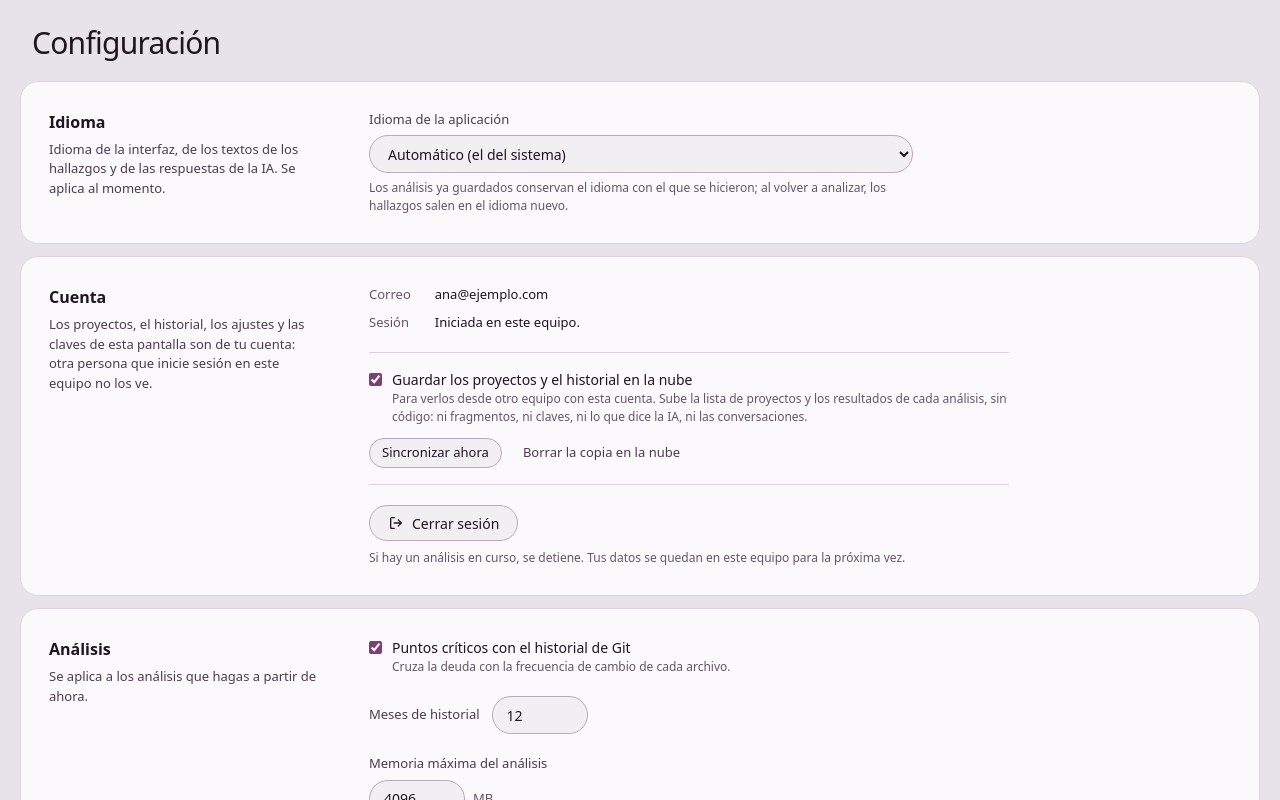
Test: Configuración › si no se puede guardar, muestra el error y conserva el borrador
This screenshot has width=1280, height=800.
Click the checkbox labelled "Puntos críticos con el historial de Git".
click(376, 648)  # box [369, 641, 382, 654]
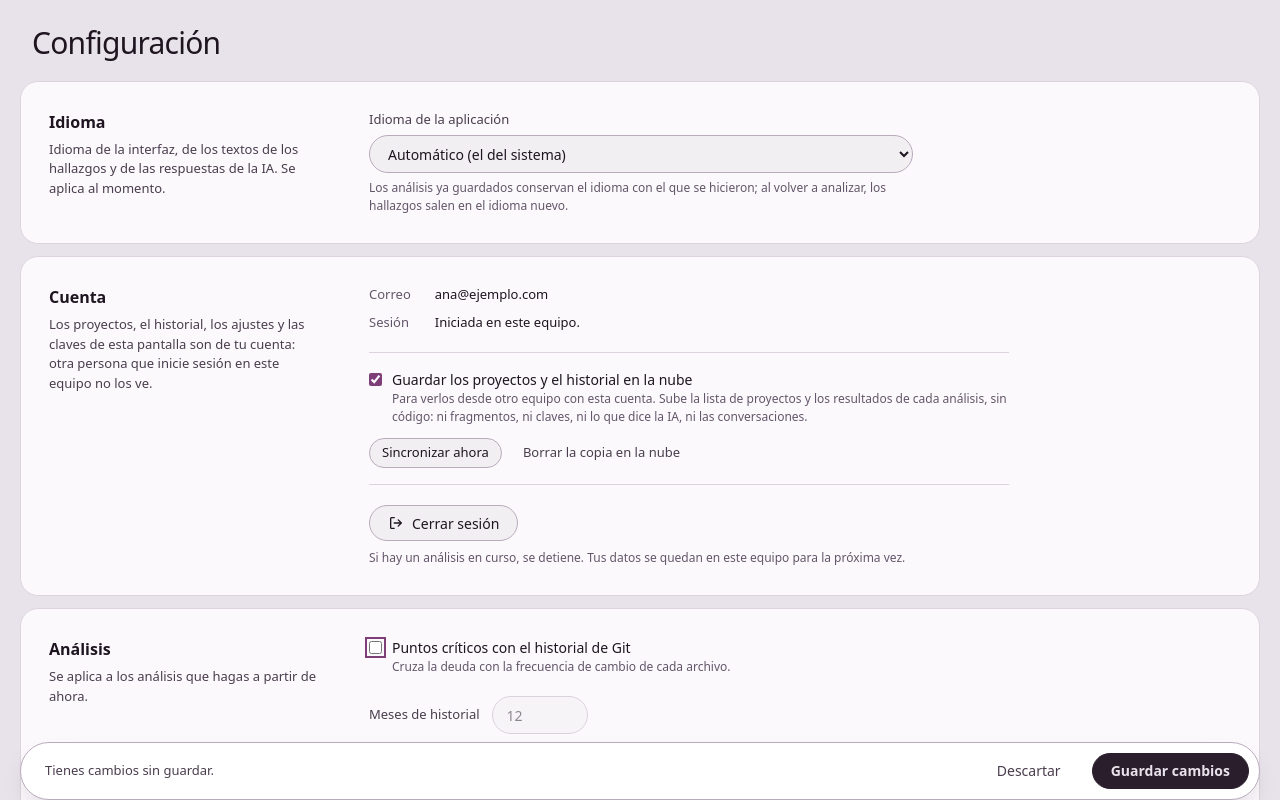
Click the button "Guardar cambios".
click(1170, 771)  # box [1092, 753, 1249, 789]
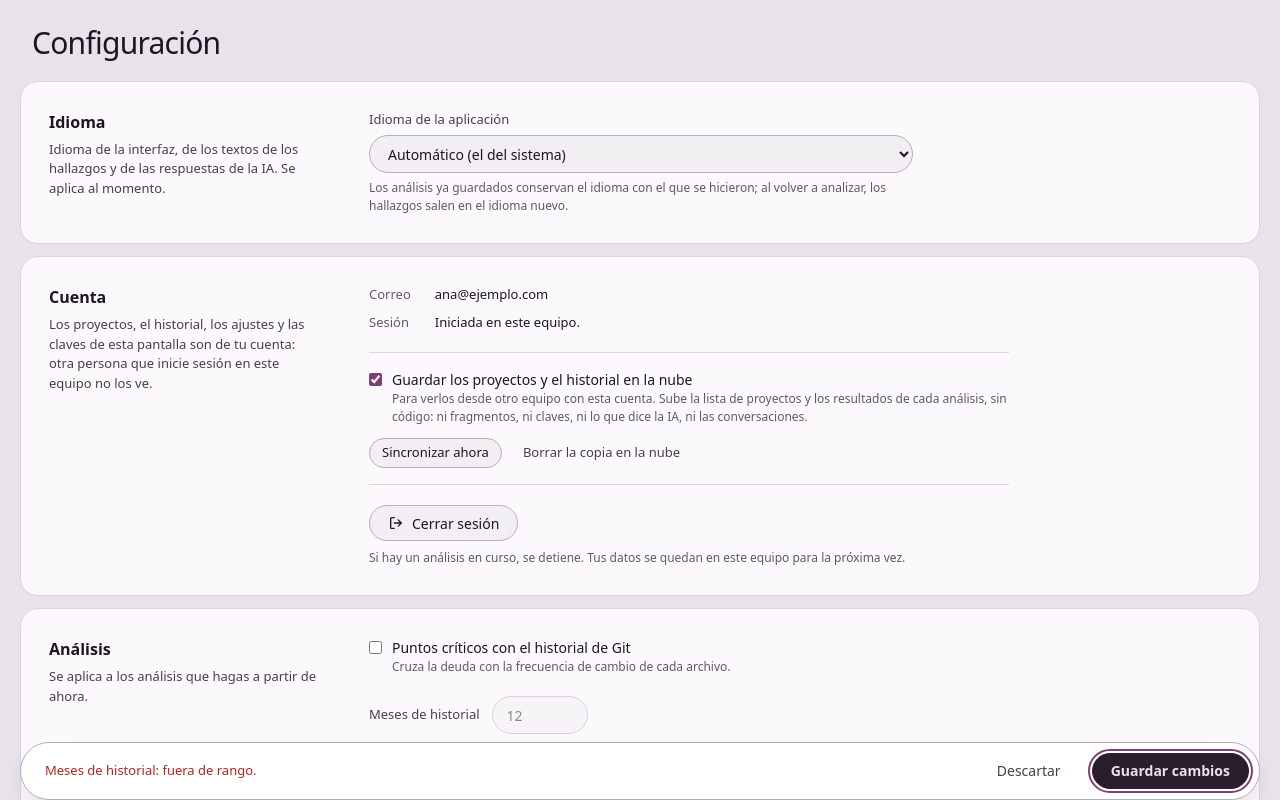
expect the checkbox labelled "Puntos críticos con el historial de Git" is not checked: met, box [369, 641, 382, 654]
expect the button "Guardar cambios" is shown: met, box [1092, 753, 1249, 789]
expect the text "Meses de historial: fuera de rango." is shown: met, box [45, 761, 256, 781]
